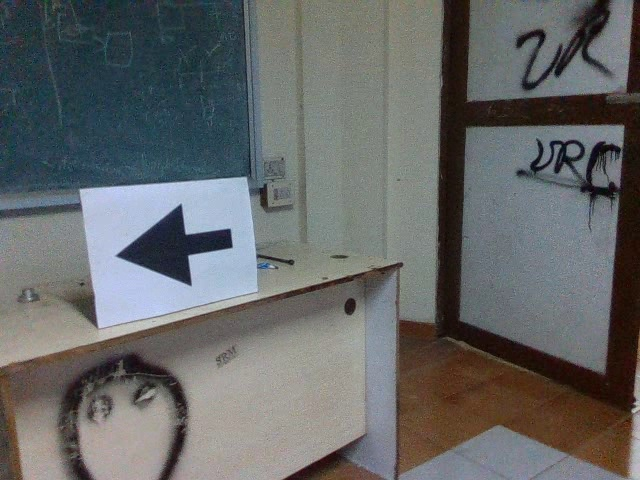Left: (111, 200, 239, 292)
